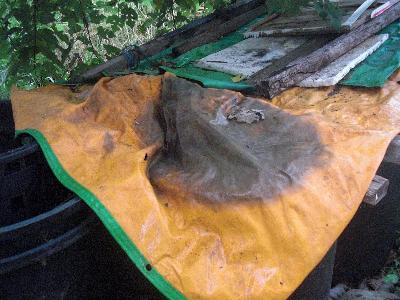plastic_bag: (10, 71, 400, 300)
